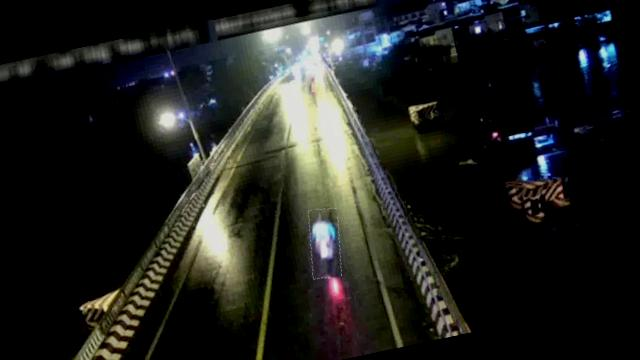Bike: (302, 206, 349, 281), (307, 71, 320, 91)
